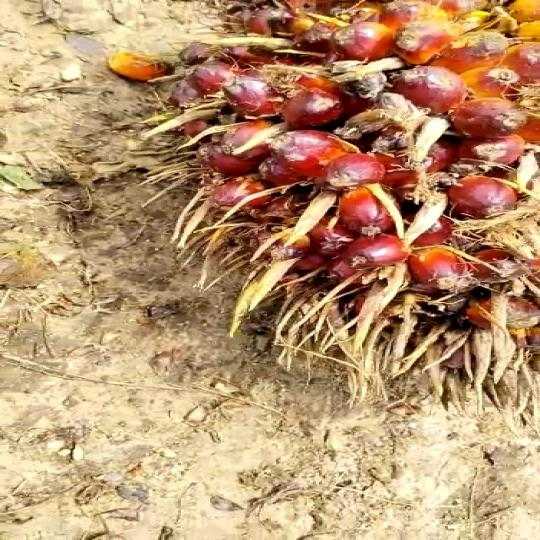masak: (114, 0, 540, 408)
